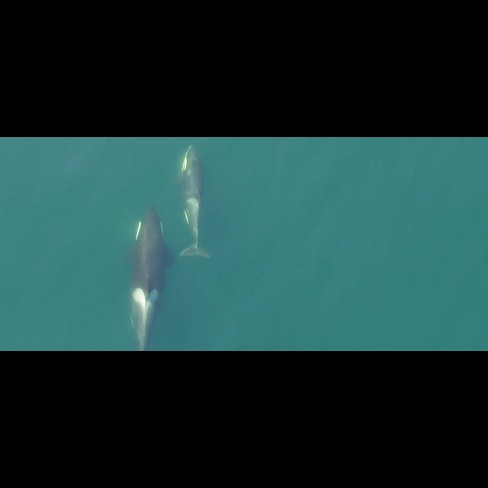orca: (119, 202, 172, 351), (175, 138, 216, 266)
